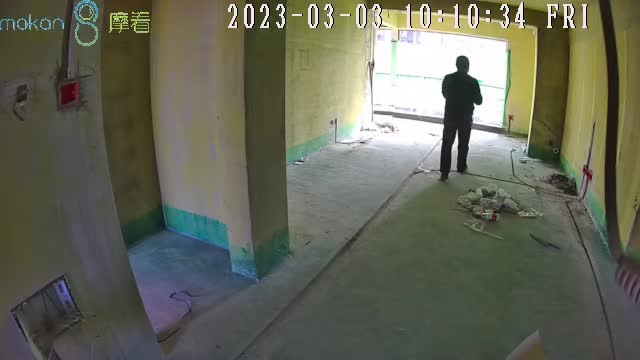people: (439, 54, 477, 178)
window: (370, 29, 504, 125)
